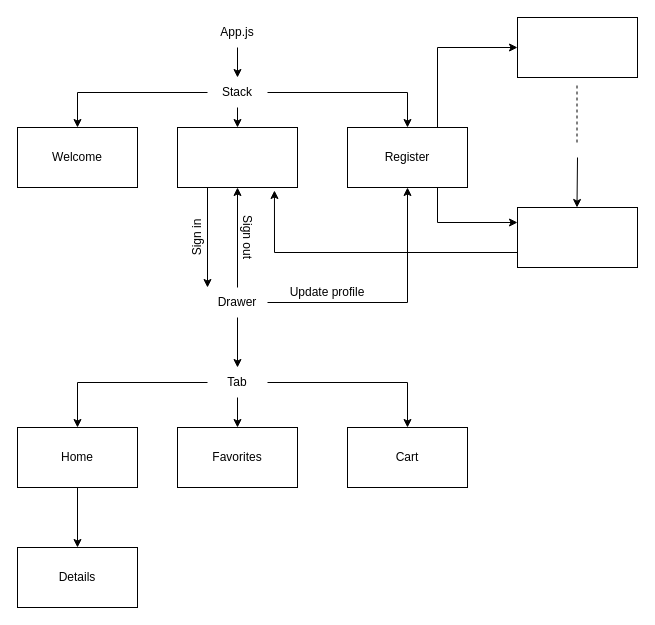
The diagram is 655 pixels wide and 625 high, and some of its shapes have lost their labels. Here are the shapes that lost their labels. From the top down, the box of each, then its label:
(516, 16, 638, 78): Peronal
(176, 126, 298, 188): Login
(516, 206, 638, 268): end register
